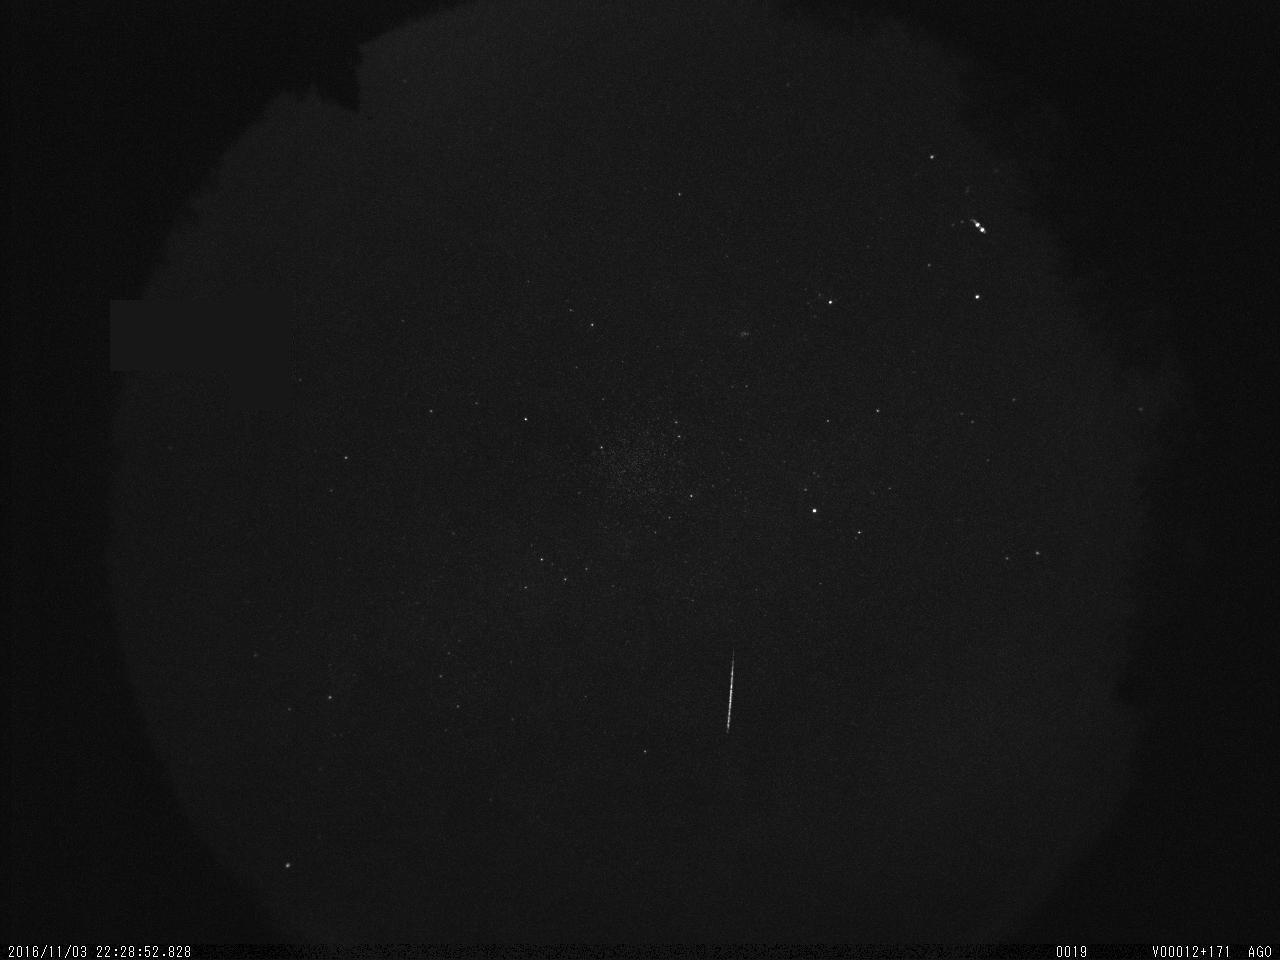meteor: (675, 631, 769, 762)
